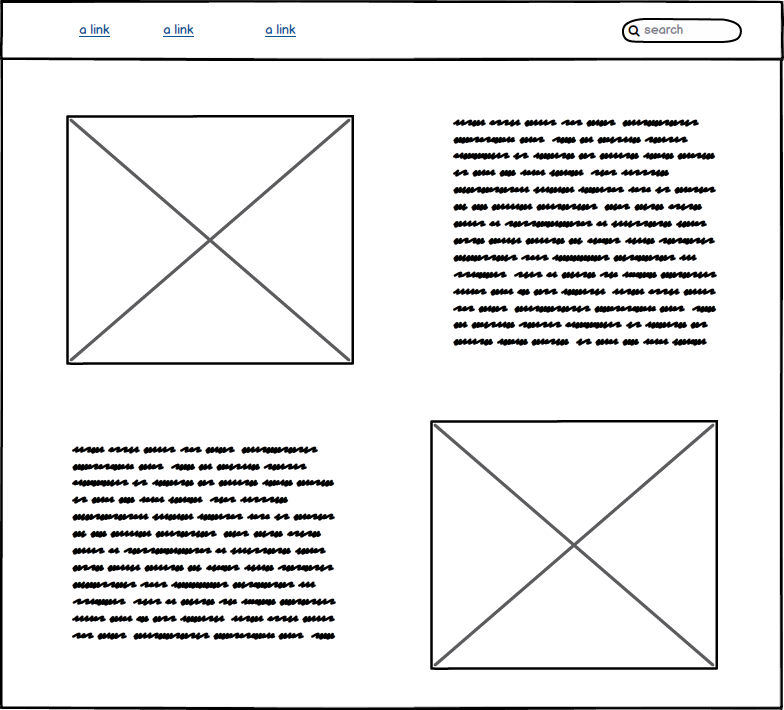image: (424, 414, 723, 677), (59, 112, 361, 368)
navlink: (158, 21, 203, 43), (73, 21, 116, 41), (260, 22, 305, 40)
p: (451, 113, 726, 351), (66, 440, 345, 644)
search: (615, 12, 749, 46)
